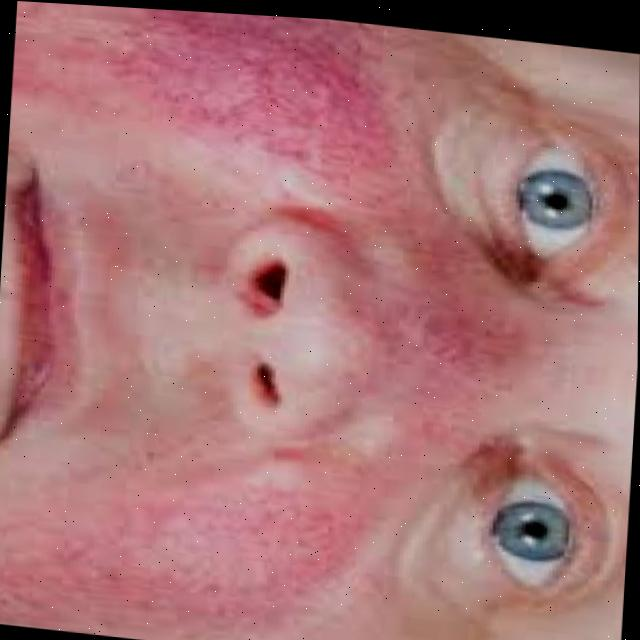Rosacea: (5, 0, 431, 233), (0, 413, 411, 640), (318, 257, 527, 459)
